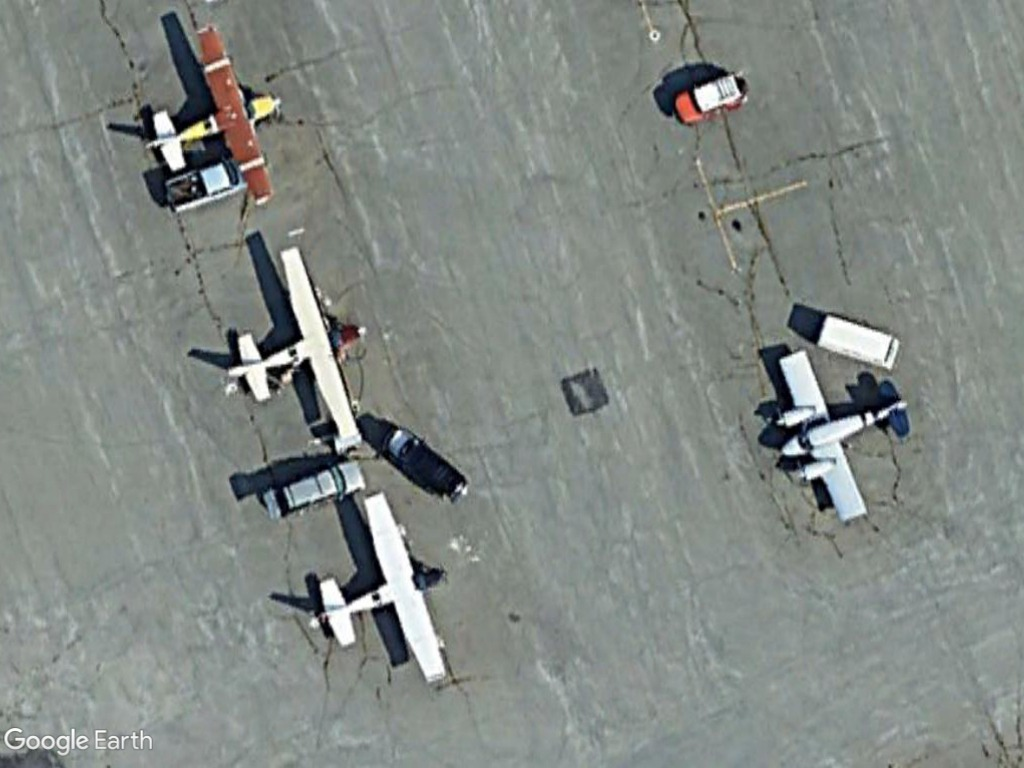other: (258, 462, 370, 526), (667, 73, 754, 127)
propeller: (765, 349, 914, 526)
trainer: (217, 239, 373, 452), (311, 489, 465, 684), (144, 19, 288, 209)
